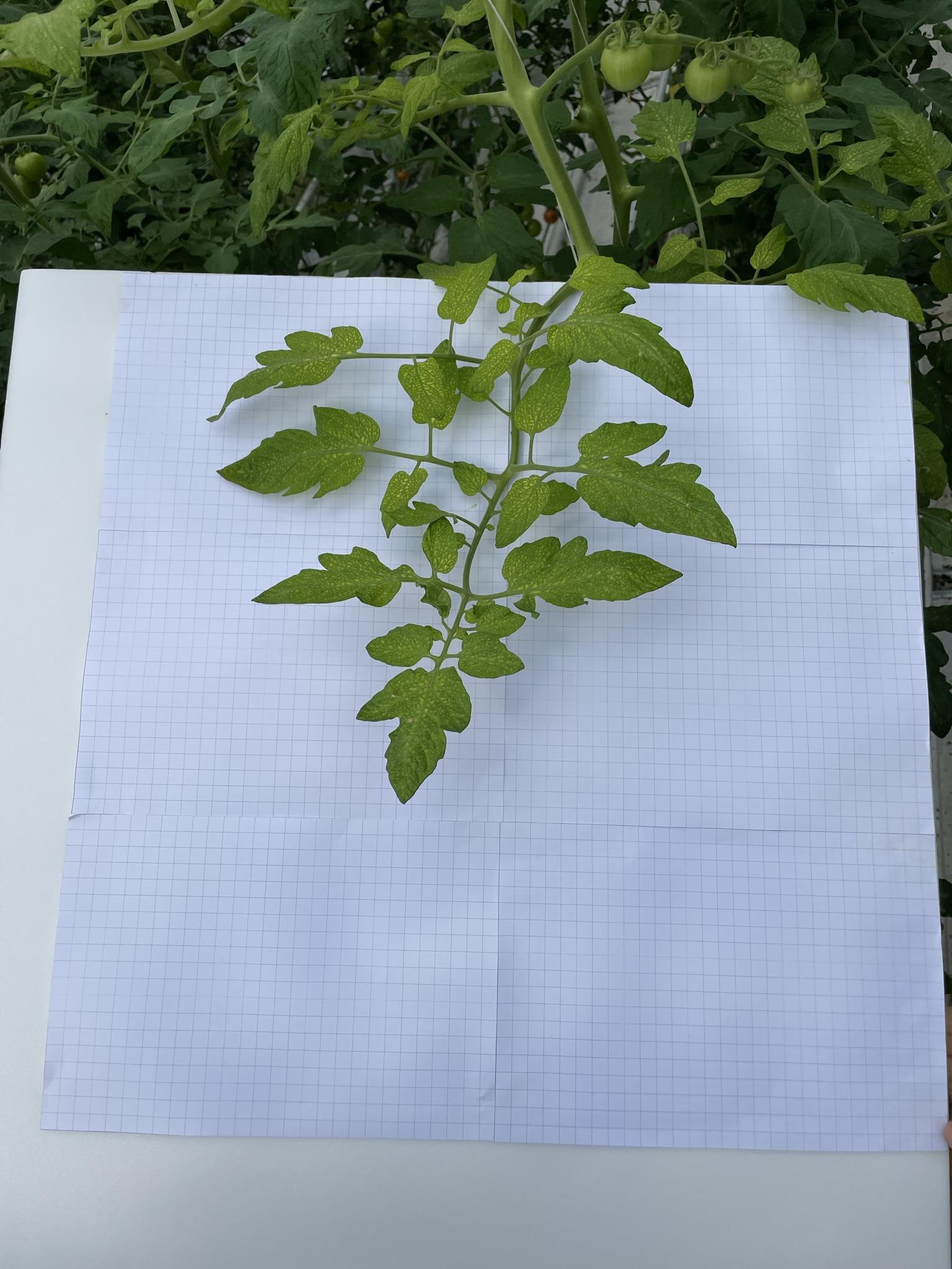Iron Deficiency: (575, 419, 739, 549), (545, 290, 695, 409), (355, 665, 472, 807), (216, 403, 382, 499), (500, 535, 683, 620), (206, 325, 363, 424), (737, 34, 829, 155), (251, 545, 415, 608), (784, 262, 927, 327), (864, 101, 952, 186), (257, 98, 321, 193), (620, 95, 697, 163), (436, 253, 498, 325), (493, 473, 550, 548), (514, 360, 571, 433), (380, 467, 429, 538), (457, 630, 526, 680), (397, 355, 447, 420), (365, 621, 433, 667), (468, 337, 520, 395), (568, 256, 649, 291), (421, 516, 458, 574), (837, 135, 893, 173), (475, 602, 526, 640), (711, 174, 765, 207), (751, 223, 788, 270), (655, 233, 696, 274), (539, 479, 580, 516), (452, 460, 488, 497), (514, 301, 553, 323)
